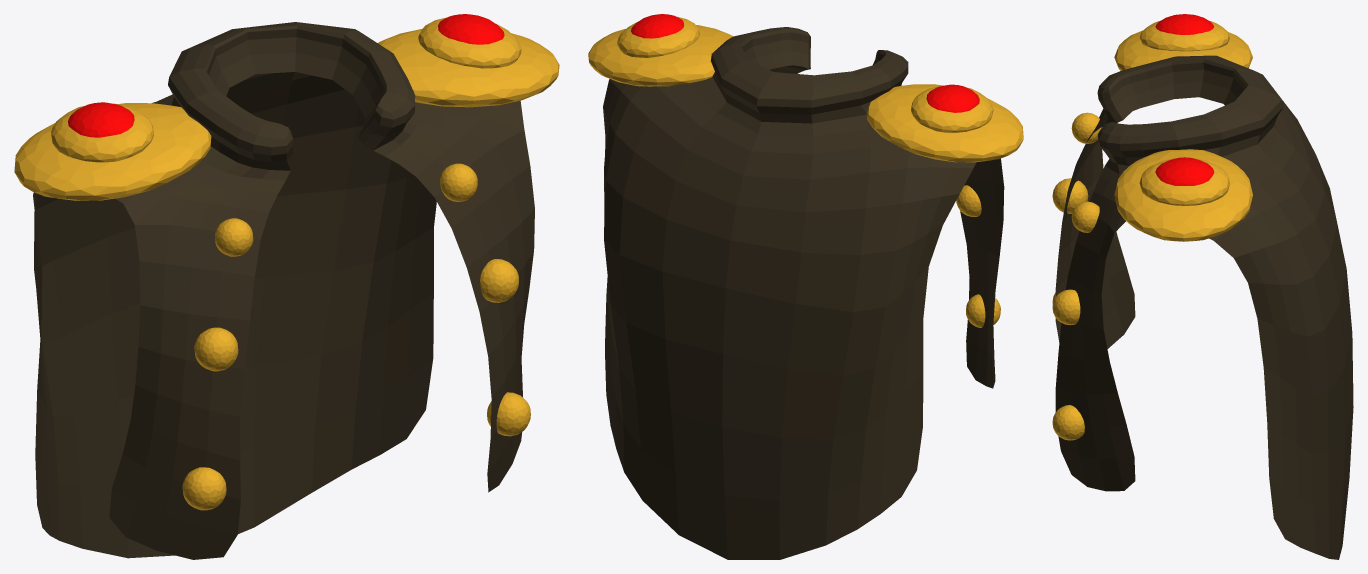
File: pirates outfits.fbx
3 views of the same model, side by side, from view 1: azimuth 30°, elevation 25°; view 2: azimuth 150°, elevation 25°; view 3: azimuth 270°, elevation 25° (orthographic). The views are drawn at different scales.
Parts seen in each view (by area): view 1: Plane; view 2: Plane; view 3: Plane.
Boxes of the visible parts, bbox=[...] form: Plane: bbox=[14, 14, 559, 559]; Plane: bbox=[588, 14, 1023, 559]; Plane: bbox=[1052, 14, 1353, 559].
Size of the model in its own units: 144 by 148 by 87.54.
